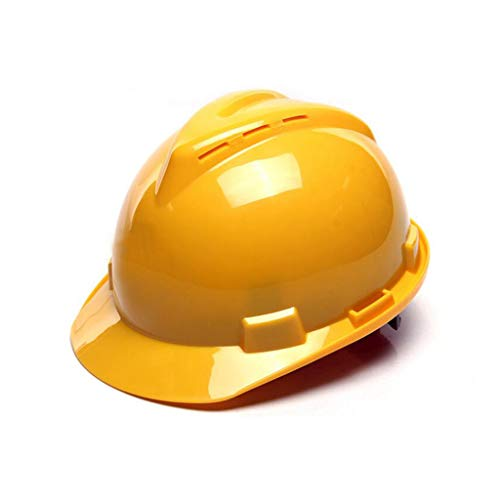elmetto: (53, 86, 466, 424)
